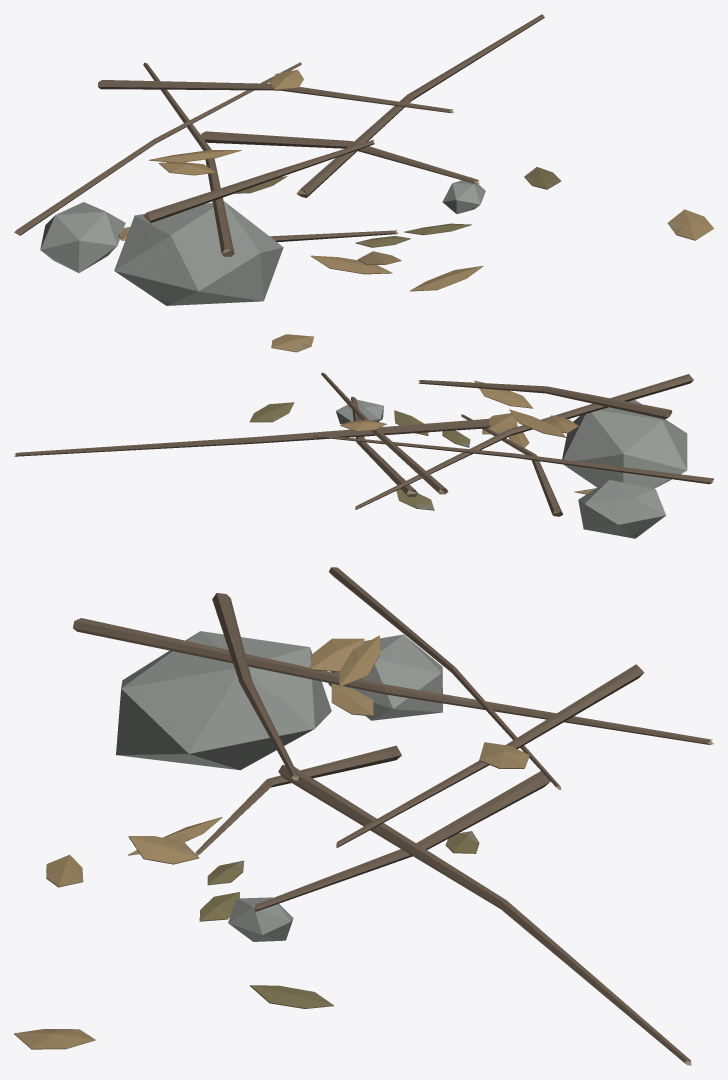
The model's file is forest_small_forest_debris_A.glb.
3 renders of one model, top to bottom at view 1: azimuth 30°, elevation 25°; view 2: azimuth 150°, elevation 25°; view 3: azimuth 270°, elevation 25°, orthographic. The views are drawn at different scales.
Parts seen in each view (by area): view 1: ForestDebrisA; view 2: ForestDebrisA; view 3: ForestDebrisA.
Part boxes in pixels (box(x1,y1,x2,y2)): ForestDebrisA: box(14, 14, 713, 305); ForestDebrisA: box(14, 334, 713, 538); ForestDebrisA: box(14, 567, 713, 1065).
Bounding box in the file's own units: 1.2 × 0.16 × 0.8.
1 material, 1 textured.
